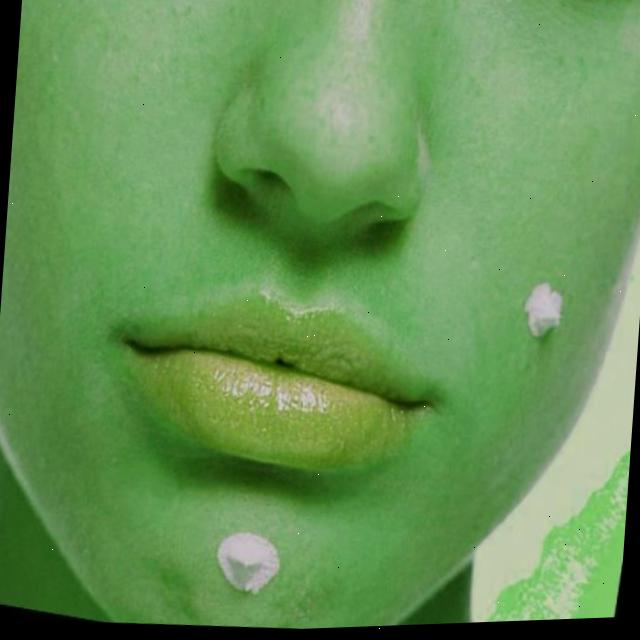Acne: (520, 276, 582, 347)
